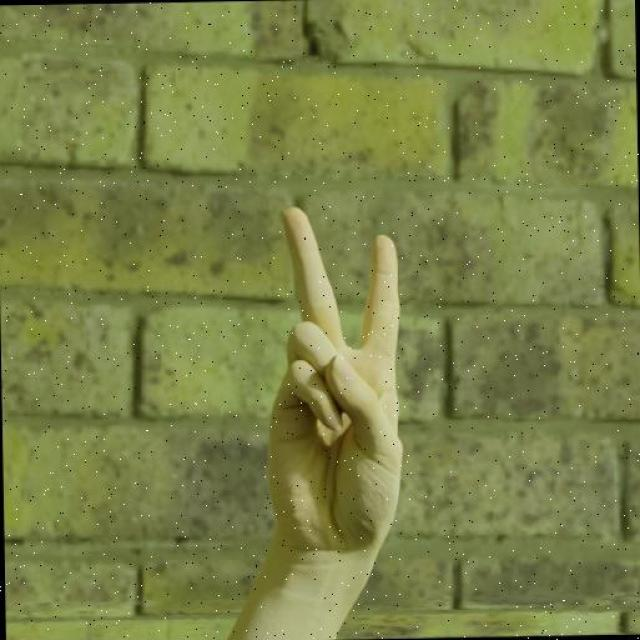V: (210, 168, 461, 638)
